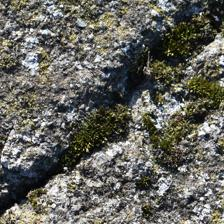Crack: (2, 8, 209, 210)
